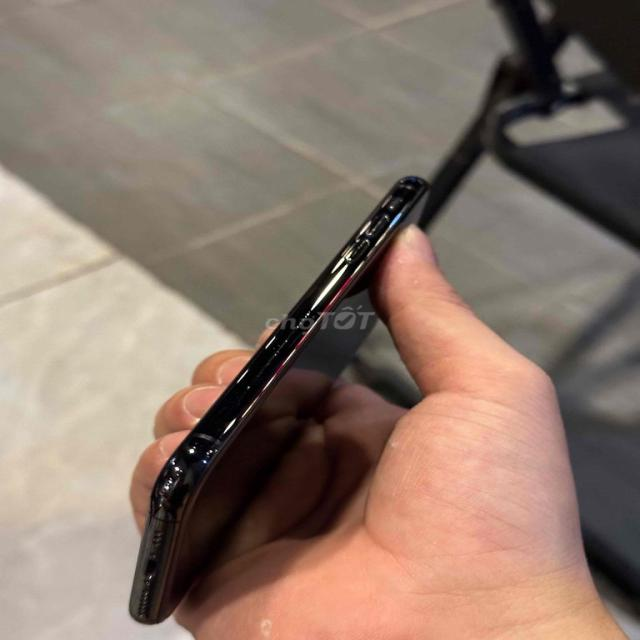gen_11: (92, 160, 450, 630)
